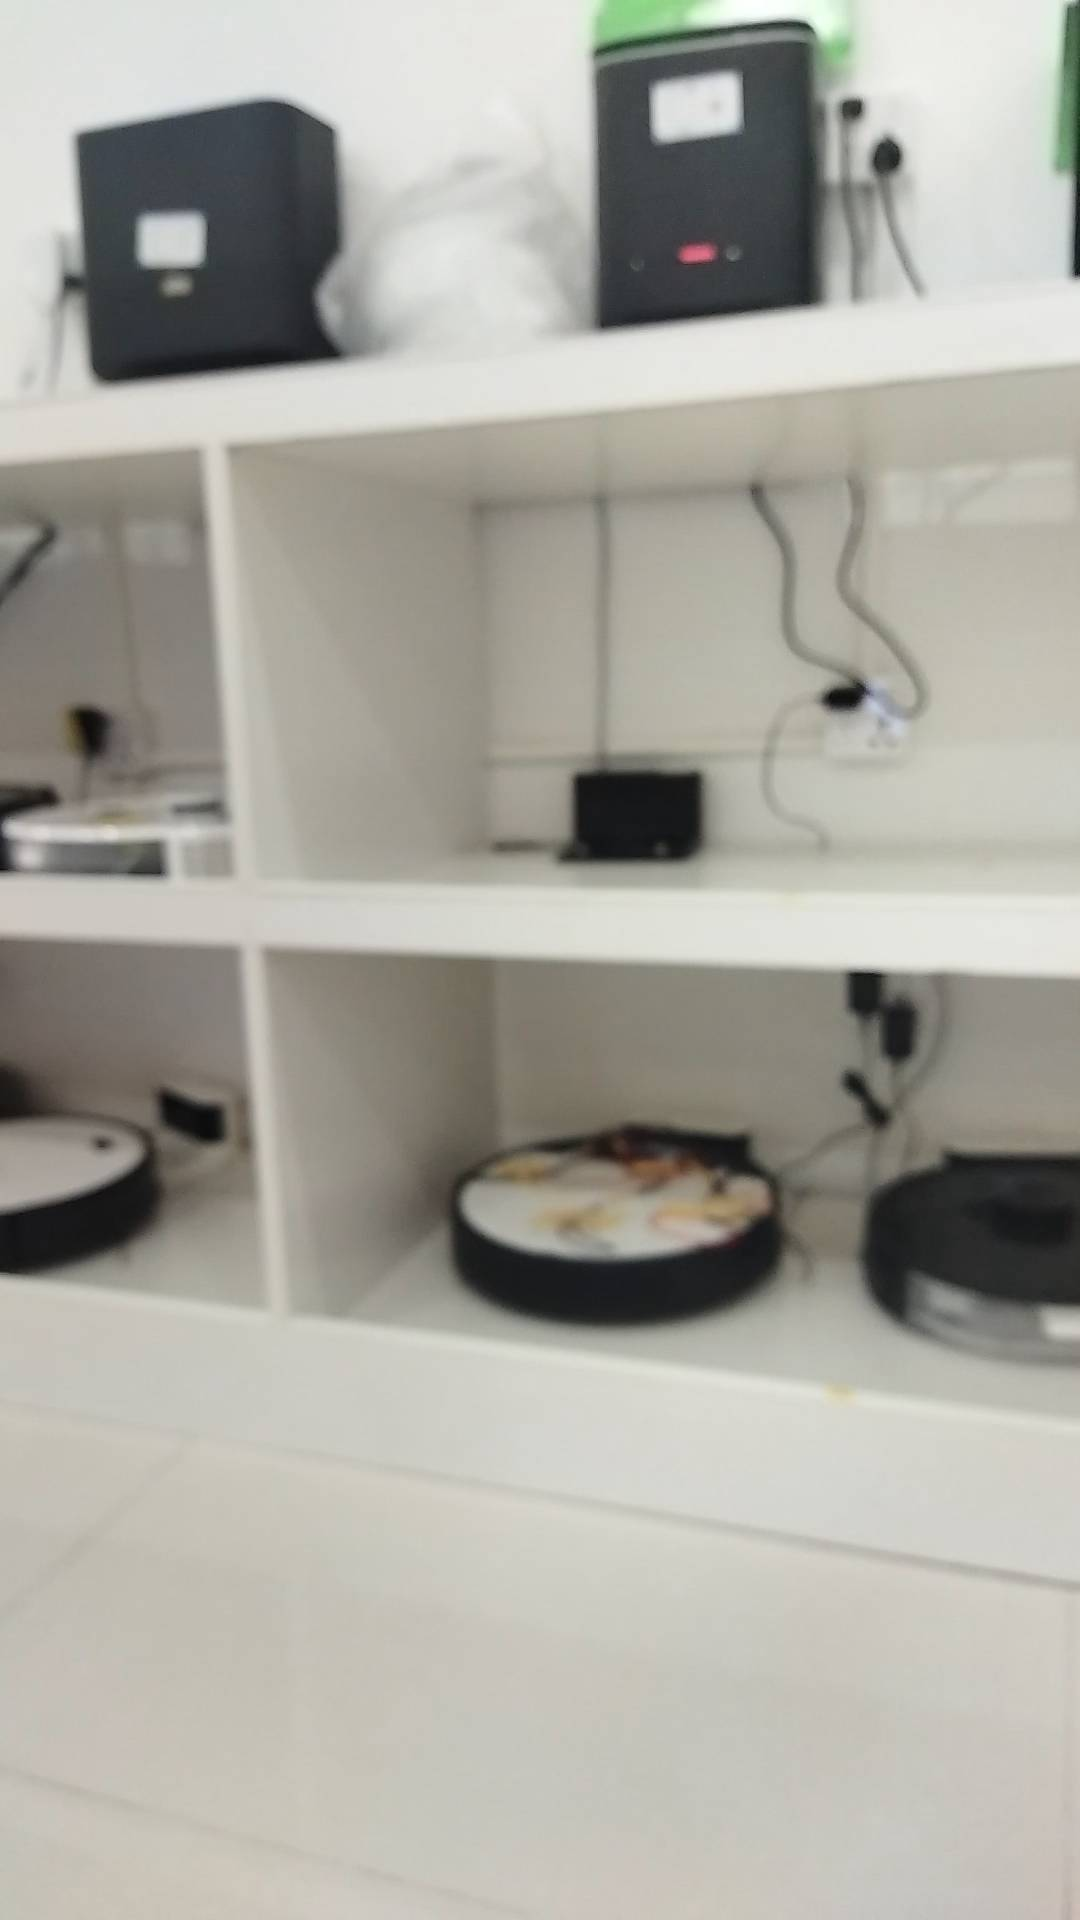dust collecting barrel: (70, 100, 345, 384), (589, 21, 820, 330)
recharge seat: (120, 1073, 239, 1191), (554, 771, 713, 858)
